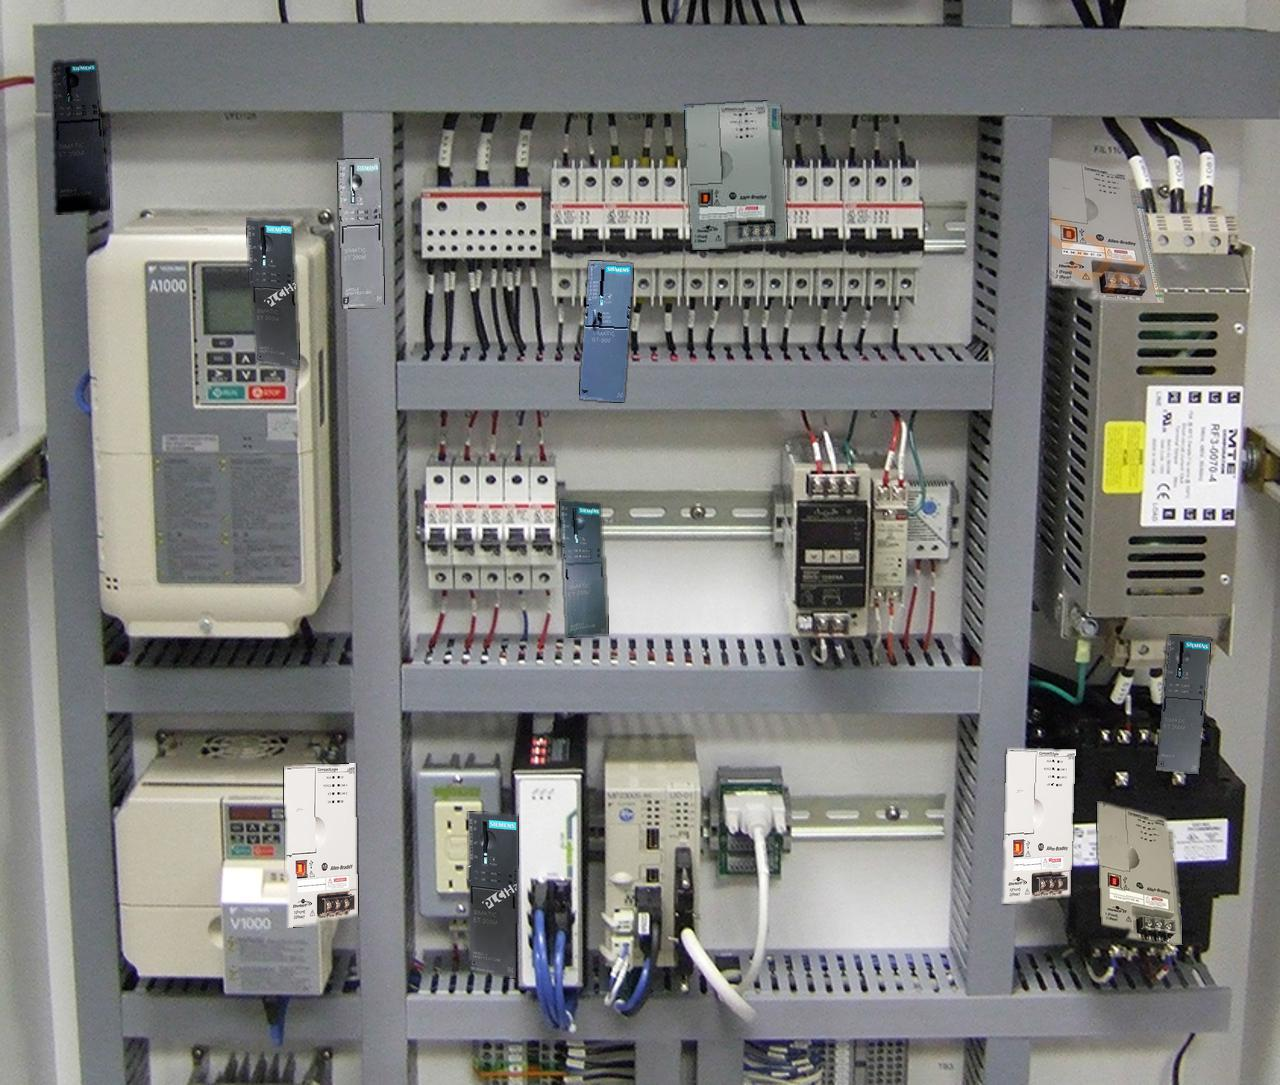AllenBradley: (1049, 158, 1163, 302), (684, 101, 786, 249), (1096, 801, 1182, 944), (284, 763, 357, 927), (1003, 749, 1075, 903)
Siemens: (579, 260, 633, 401)
